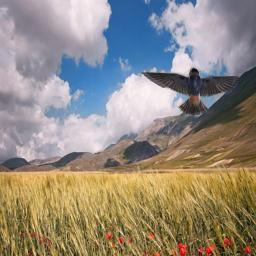Swallow: (138, 66, 242, 116)
